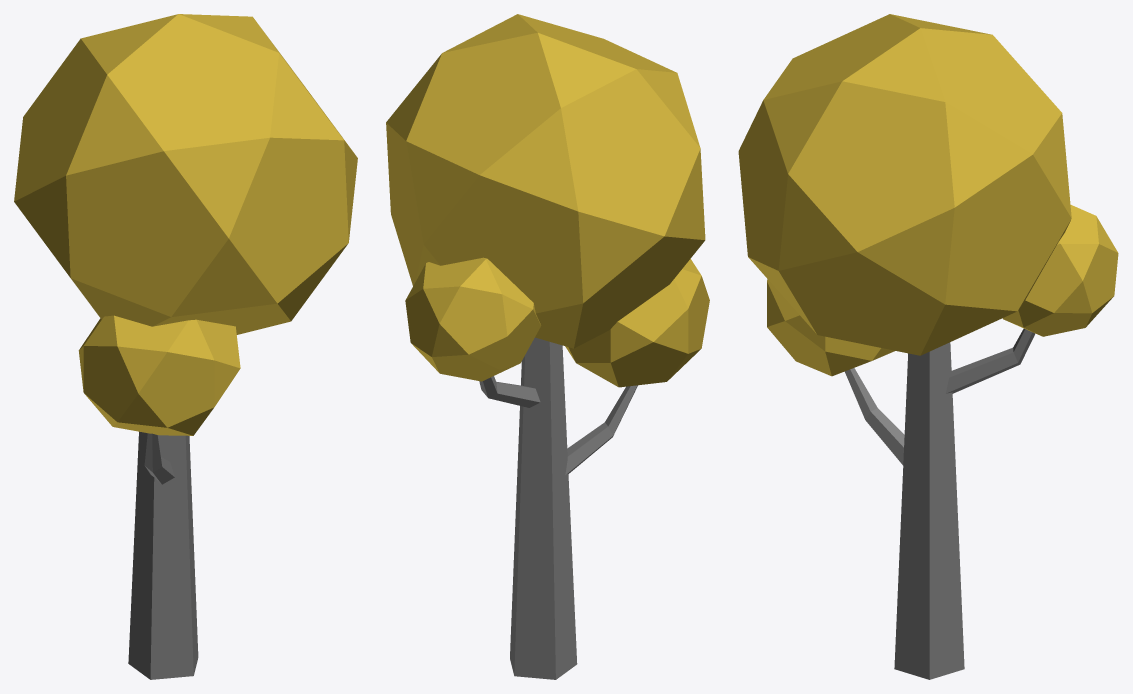
The model's file is Arbre3.2.fbx.
3 views of the same model, side by side, from view 1: azimuth 30°, elevation 25°; view 2: azimuth 150°, elevation 25°; view 3: azimuth 270°, elevation 25° (orthographic). The views are drawn at different scales.
Visible parts, largest first — view 1: NGon002; view 2: NGon002; view 3: NGon002.
Boxes of the visible parts, box(x1,y1,x2,y2) form: NGon002: box(14, 14, 357, 679); NGon002: box(386, 14, 709, 679); NGon002: box(738, 14, 1118, 679).
Bounding box in the file's own units: 45.34 × 95.73 × 51.5.
1 material, 1 textured.
